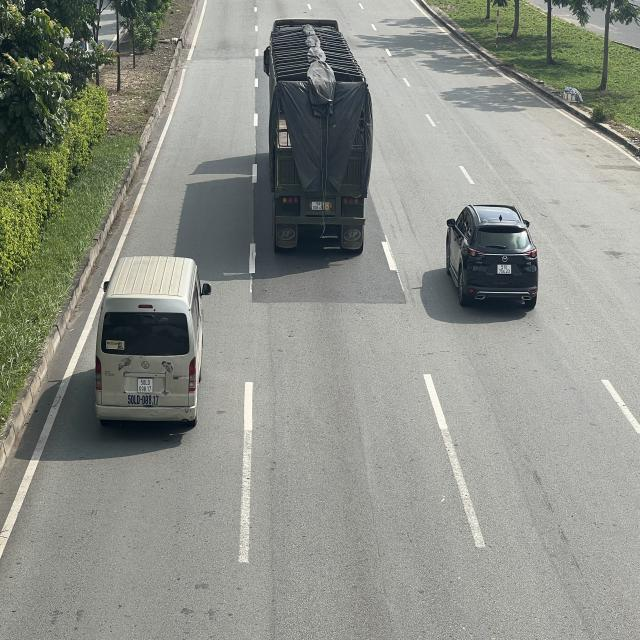car: (444, 202, 540, 308)
container: (262, 19, 372, 258)
van: (95, 253, 211, 425)
